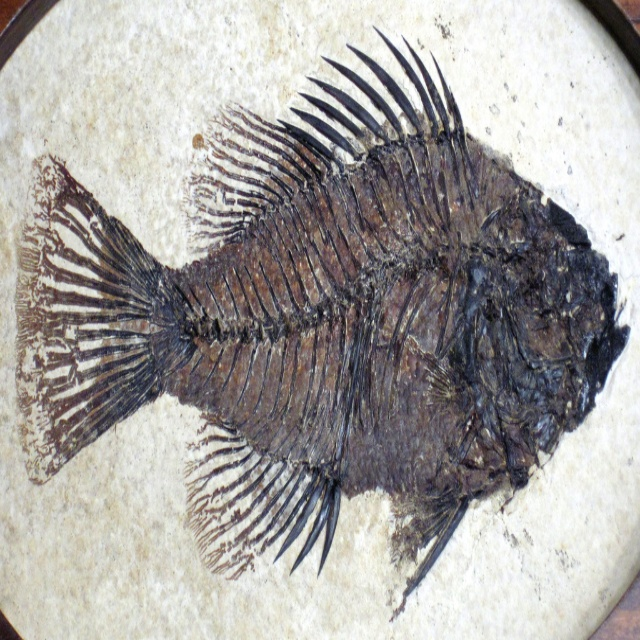Fish: (61, 79, 579, 595)
